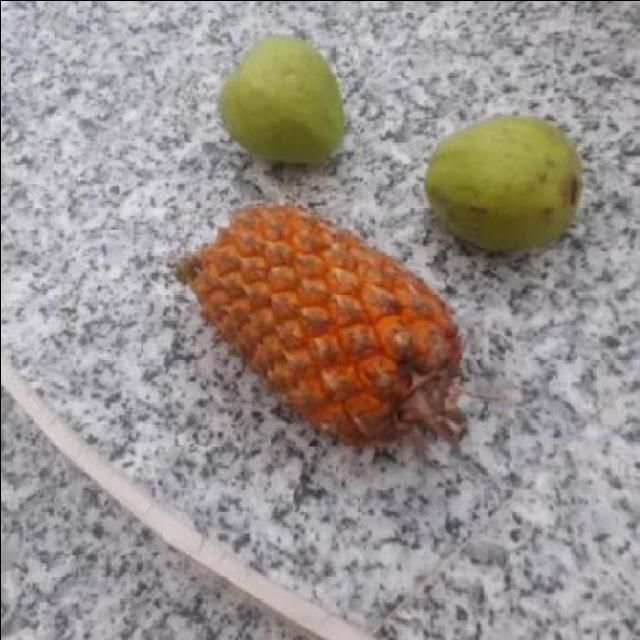guava: (418, 115, 582, 245), (214, 35, 344, 165)
pineapple: (172, 198, 474, 446)
